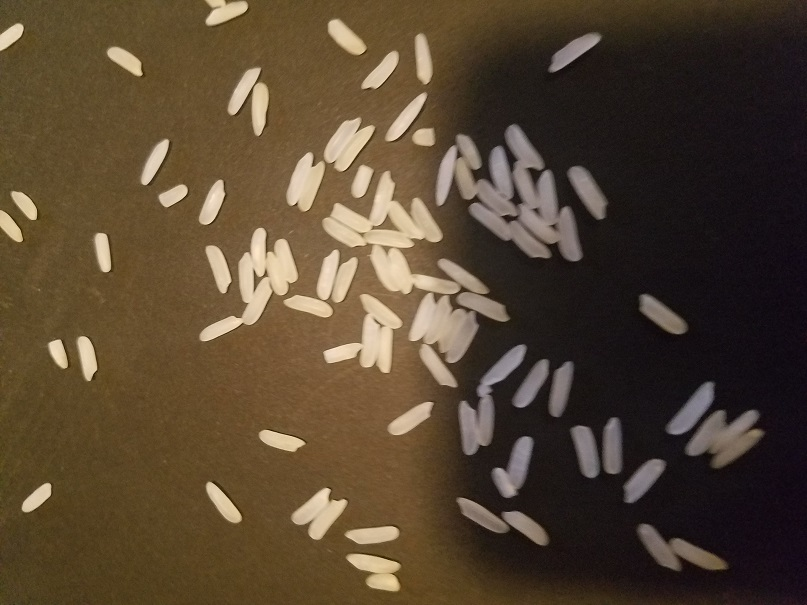egg: (666, 381, 716, 438), (545, 31, 602, 74), (708, 406, 758, 454), (567, 164, 609, 221), (456, 492, 511, 534), (621, 457, 667, 506), (637, 523, 683, 572), (385, 91, 427, 144), (476, 343, 526, 387), (334, 124, 377, 174), (512, 355, 550, 411), (685, 410, 728, 459), (502, 507, 553, 548), (710, 429, 762, 469), (637, 293, 689, 333), (504, 124, 546, 172), (670, 537, 731, 570), (385, 399, 435, 438), (225, 63, 261, 117), (290, 486, 334, 529), (515, 204, 562, 244), (324, 115, 363, 163), (437, 257, 489, 293), (418, 342, 459, 387), (445, 312, 479, 365), (307, 498, 346, 544), (469, 203, 514, 242), (456, 291, 510, 323), (509, 221, 553, 260), (505, 432, 535, 489), (358, 292, 404, 329), (204, 479, 244, 521), (326, 256, 361, 304), (487, 144, 516, 201), (325, 17, 368, 55), (361, 50, 400, 91), (241, 279, 274, 327), (370, 169, 397, 227), (297, 161, 327, 213), (386, 199, 425, 239), (204, 242, 233, 295), (138, 137, 169, 186), (286, 151, 313, 207), (556, 205, 582, 263), (322, 217, 369, 249), (423, 295, 453, 345), (408, 292, 437, 343), (457, 399, 482, 458), (411, 197, 443, 243), (198, 177, 228, 225), (572, 426, 598, 479), (315, 245, 340, 300), (370, 244, 398, 293), (599, 415, 621, 477), (435, 145, 457, 207), (282, 293, 334, 319), (550, 359, 574, 415), (513, 162, 541, 210), (258, 426, 307, 453), (198, 314, 245, 342), (386, 248, 414, 295), (271, 237, 300, 282), (330, 202, 372, 233), (438, 308, 466, 353), (204, 1, 249, 28), (347, 551, 402, 573), (16, 482, 53, 514), (106, 47, 144, 78), (264, 250, 289, 297), (537, 169, 558, 224), (344, 525, 401, 545), (75, 336, 99, 383), (251, 81, 271, 137), (359, 315, 379, 368), (410, 274, 462, 294), (455, 134, 483, 171), (365, 228, 414, 249), (414, 33, 433, 87), (10, 189, 41, 222), (376, 326, 398, 372), (322, 342, 363, 366), (453, 158, 477, 199), (237, 252, 256, 303), (489, 466, 518, 498), (156, 181, 190, 208), (365, 573, 406, 595), (350, 163, 375, 199), (1, 210, 24, 247), (249, 225, 265, 276), (46, 339, 72, 370), (93, 233, 112, 273), (1, 20, 24, 52), (413, 127, 436, 147), (213, 1, 228, 6)
